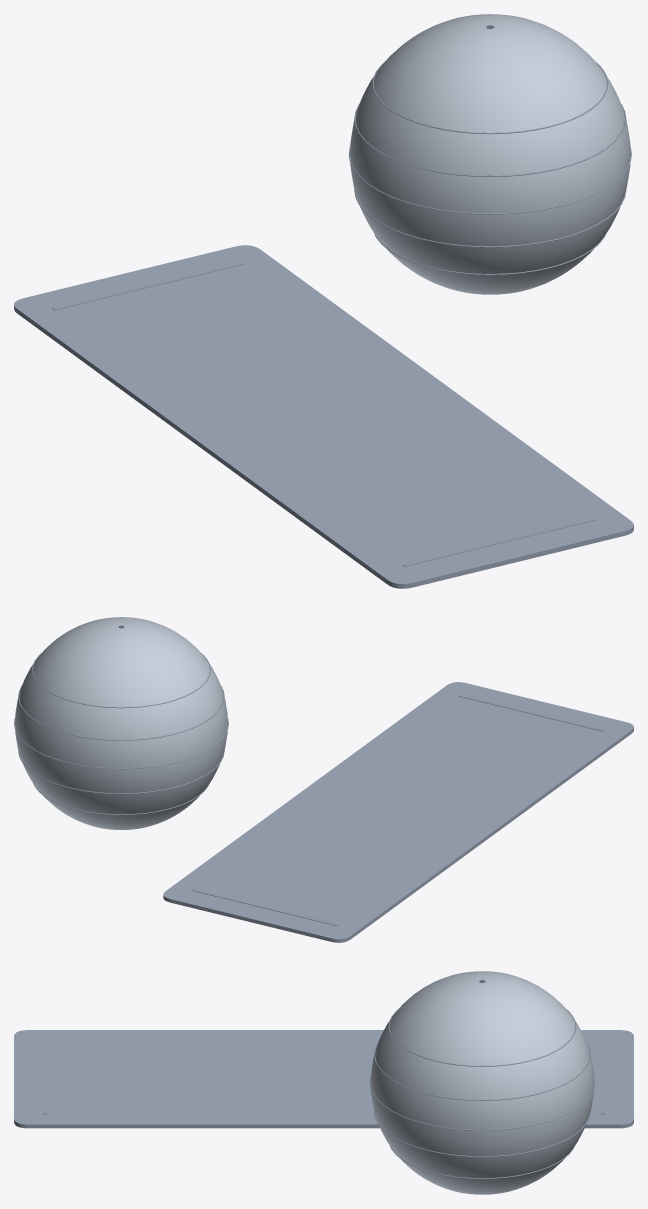
The model's file is yoga-set-lite.glb.
3 views of the same model, one above another, from view 1: azimuth 30°, elevation 25°; view 2: azimuth 150°, elevation 25°; view 3: azimuth 270°, elevation 25° (orthographic). The views are drawn at different scales.
Visible parts, largest first — view 1: yoga-set-soft, yoga-set-light, yoga-set-accent; view 2: yoga-set-soft, yoga-set-light, yoga-set-accent; view 3: yoga-set-soft, yoga-set-light, yoga-set-accent.
Part boxes in pixels (x1,y1,x2,y2): yoga-set-soft: (14,245,633,588); yoga-set-light: (350,14,630,294); yoga-set-accent: (52,60,631,566); yoga-set-soft: (163,682,633,942); yoga-set-light: (15,617,227,829); yoga-set-accent: (14,653,604,925); yoga-set-soft: (14,1030,633,1128); yoga-set-light: (370,971,594,1194); yoga-set-accent: (42,1008,605,1179).
Bounding box in the file's own units: 1.36 × 0.6505 × 1.8.
